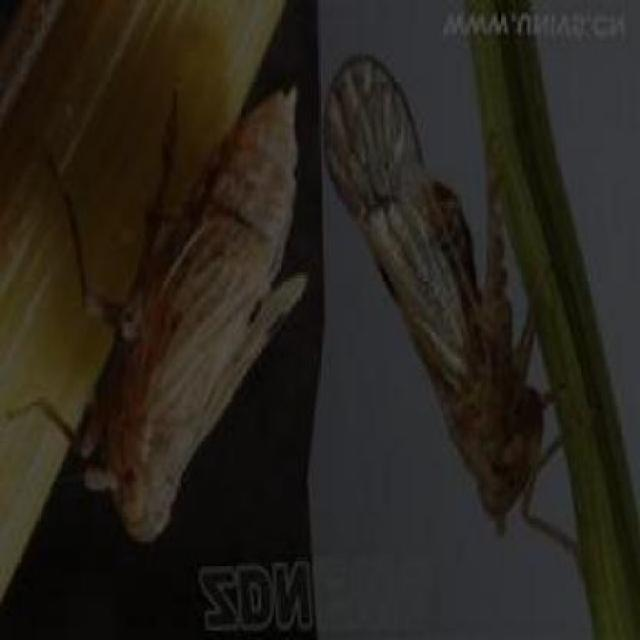brown-planthopper: (55, 90, 313, 545), (327, 49, 555, 542)
